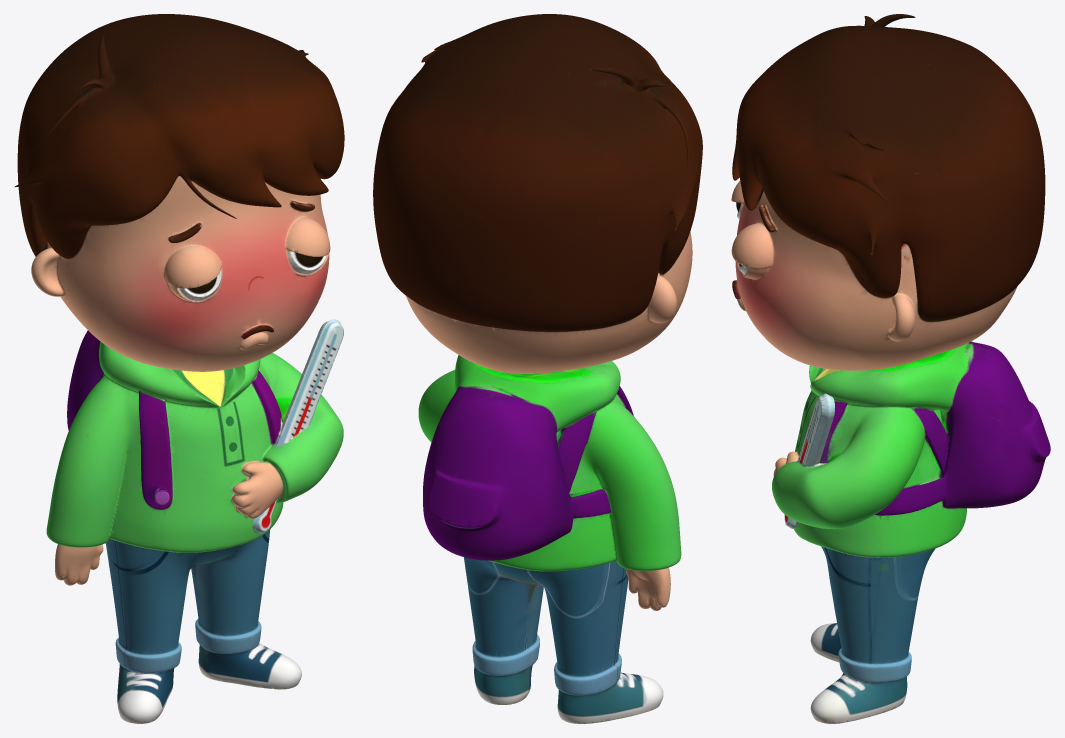
The model's file is Meshy_AI_menino_com_febre_0413011600_texture.fbx.
The picture shows the model from 3 angles, left to right: view 1: azimuth 30°, elevation 25°; view 2: azimuth 150°, elevation 25°; view 3: azimuth 270°, elevation 25°; orthographic projection. The views are drawn at different scales.
Parts seen in each view (by area): view 1: Mesh_0; view 2: Mesh_0; view 3: Mesh_0.
Part boxes in pixels (x1=…): Mesh_0: x1=15, y1=14, x2=344, y2=723; Mesh_0: x1=373, y1=14, x2=702, y2=723; Mesh_0: x1=731, y1=14, x2=1050, y2=723.
Bounding box in the file's own units: 90.36 × 190 × 85.58.
1 material, 1 textured.
